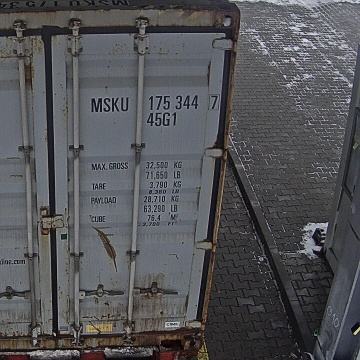serial_id: (91, 95, 218, 112)
